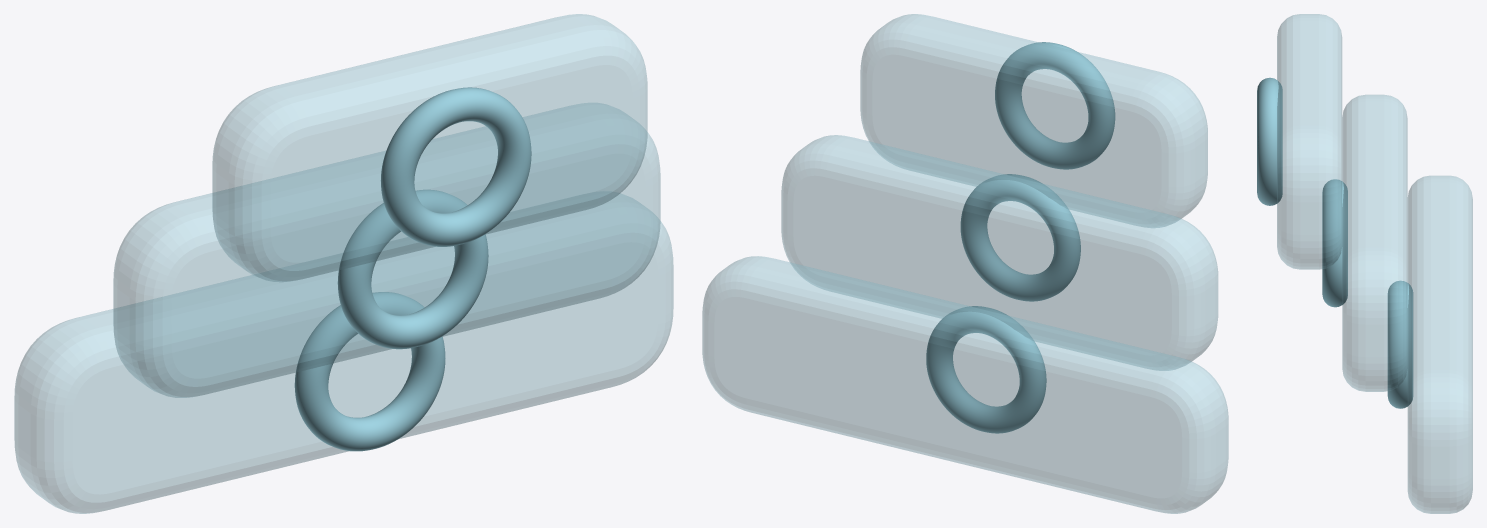
3 renders of one model, left to right at view 1: azimuth 30°, elevation 25°; view 2: azimuth 150°, elevation 25°; view 3: azimuth 270°, elevation 25°, orthographic. The views are drawn at different scales.
Visible parts, largest first — view 1: dock-tier-0, dock-tier-1, dock-tier-2, socket-2, socket-0, socket-1; view 2: dock-tier-0, dock-tier-1, dock-tier-2, socket-2, socket-1, socket-0; view 3: dock-tier-0, dock-tier-1, dock-tier-2, socket-0, socket-2, socket-1.
Boxes of the visible parts, x1,y1,x2,y2 form: dock-tier-0: (14, 193, 673, 513); dock-tier-1: (113, 103, 660, 397); dock-tier-2: (212, 14, 647, 281); socket-2: (381, 87, 531, 246); socket-0: (294, 292, 445, 451); socket-1: (337, 189, 488, 349); dock-tier-0: (702, 256, 1228, 513); dock-tier-1: (781, 135, 1217, 370); dock-tier-2: (860, 14, 1207, 227); socket-2: (995, 42, 1115, 169); socket-1: (960, 174, 1080, 301); socket-0: (926, 306, 1046, 433); dock-tier-0: (1408, 176, 1472, 513); dock-tier-1: (1342, 95, 1407, 391); dock-tier-2: (1277, 14, 1341, 269); socket-0: (1387, 280, 1413, 408); socket-2: (1257, 77, 1282, 205); socket-1: (1322, 179, 1347, 307).
Size of the model in its own units: 2.4 by 1.61 by 0.925.
